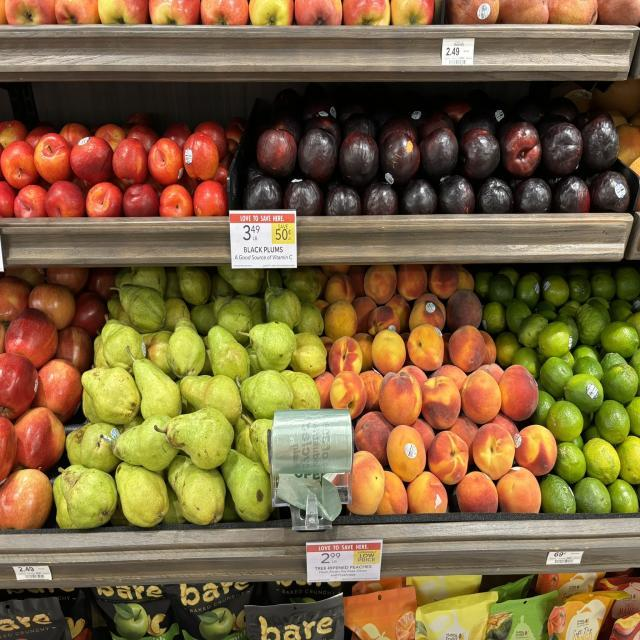Apple -Red-: (15, 407, 65, 472), (32, 358, 82, 423), (0, 468, 52, 530), (5, 308, 58, 368), (0, 353, 38, 420), (29, 283, 75, 330), (70, 137, 114, 185), (0, 140, 39, 189), (34, 133, 72, 183), (55, 327, 94, 373), (182, 132, 219, 180), (148, 137, 184, 186), (112, 138, 149, 183), (71, 292, 106, 337), (45, 180, 85, 217), (0, 277, 31, 321), (86, 182, 124, 217), (194, 180, 229, 217), (122, 183, 159, 217), (46, 267, 89, 295), (0, 417, 18, 482), (14, 185, 48, 218), (159, 185, 194, 217), (88, 268, 115, 302), (5, 268, 45, 288), (0, 182, 16, 218), (0, 322, 6, 352), (106, 155, 109, 158)
Peach: (472, 423, 515, 480), (379, 372, 422, 427), (348, 452, 385, 515), (386, 425, 426, 483), (514, 425, 558, 477), (428, 430, 469, 485), (460, 370, 501, 424), (499, 365, 539, 420), (355, 412, 394, 467), (421, 377, 461, 430), (496, 467, 541, 513), (408, 323, 444, 372), (456, 472, 499, 513), (330, 370, 366, 418), (449, 325, 485, 373), (406, 472, 448, 513), (446, 288, 482, 332), (371, 330, 406, 375), (376, 470, 408, 515), (449, 415, 478, 464), (324, 300, 358, 340), (364, 265, 398, 305), (409, 293, 445, 330), (329, 337, 362, 375), (396, 265, 428, 300), (490, 413, 521, 448), (429, 263, 459, 298), (368, 305, 400, 337), (386, 293, 411, 333), (324, 273, 355, 303), (360, 370, 382, 412), (431, 365, 466, 390), (352, 297, 376, 333), (352, 333, 374, 371), (411, 418, 435, 452), (314, 372, 335, 408), (348, 265, 368, 296), (400, 365, 428, 387), (480, 330, 496, 364), (479, 363, 504, 383), (456, 265, 475, 291), (321, 265, 350, 278), (314, 298, 330, 318), (321, 337, 334, 353)
Pear: (155, 407, 234, 470), (168, 455, 226, 525), (111, 415, 179, 472), (221, 450, 272, 522), (115, 462, 169, 527), (81, 367, 141, 425), (61, 467, 118, 528), (180, 375, 242, 425), (132, 358, 181, 420), (240, 370, 294, 418), (208, 325, 250, 382), (166, 317, 205, 378), (248, 322, 296, 371), (119, 285, 166, 333), (81, 422, 120, 473), (214, 297, 252, 345), (104, 327, 145, 370), (290, 332, 328, 378), (264, 287, 301, 328), (282, 267, 321, 303), (146, 330, 175, 378), (218, 265, 264, 295), (286, 372, 321, 410), (52, 475, 76, 528), (249, 418, 272, 473), (234, 417, 261, 463), (179, 267, 211, 305), (65, 423, 90, 465), (131, 267, 166, 297), (294, 302, 324, 335), (235, 425, 261, 463), (235, 295, 266, 325), (164, 298, 190, 332), (190, 302, 216, 335), (211, 273, 235, 300), (164, 268, 182, 300)
